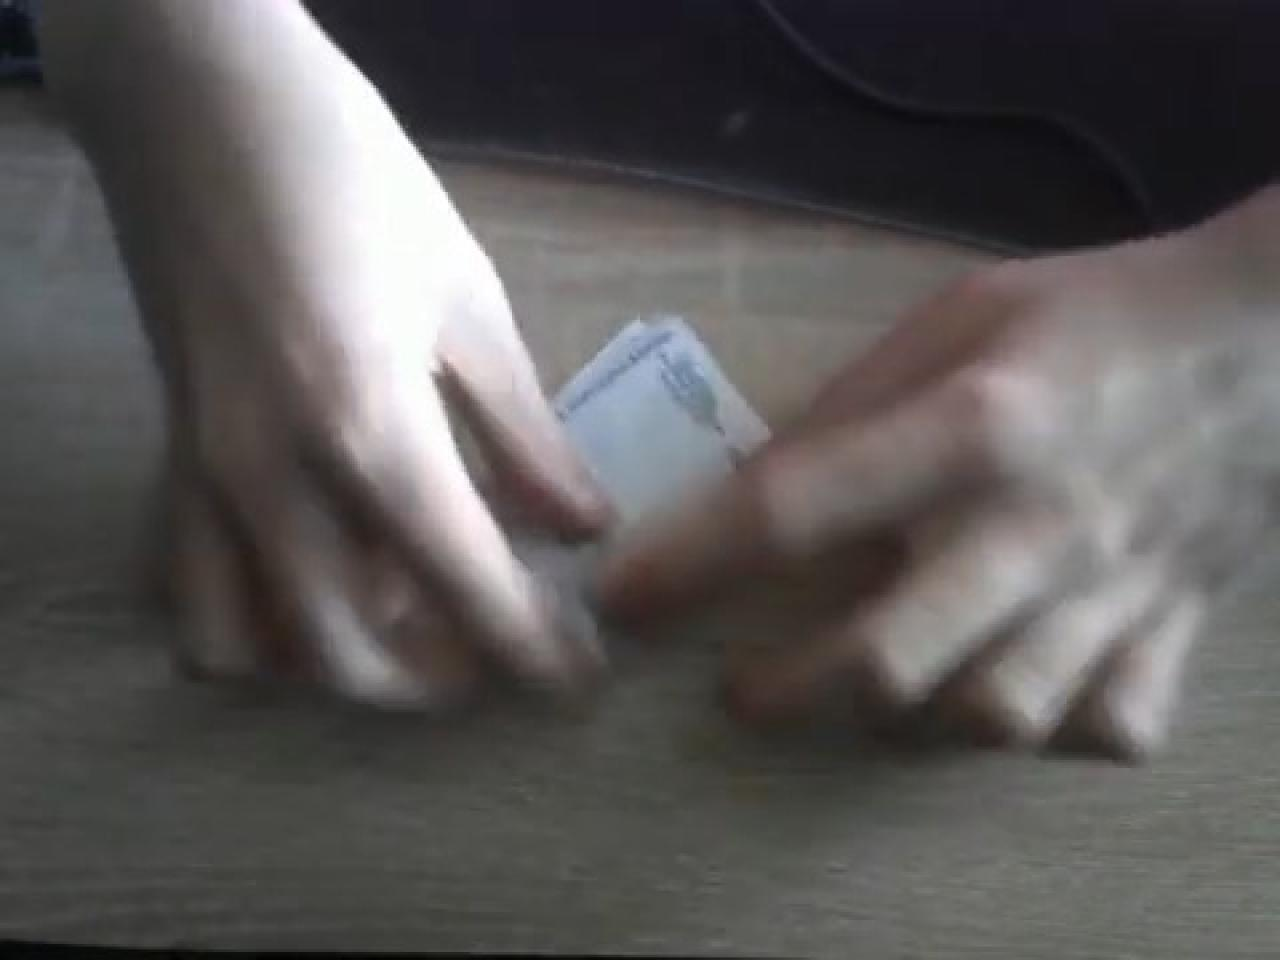20leva: (554, 318, 773, 579)
